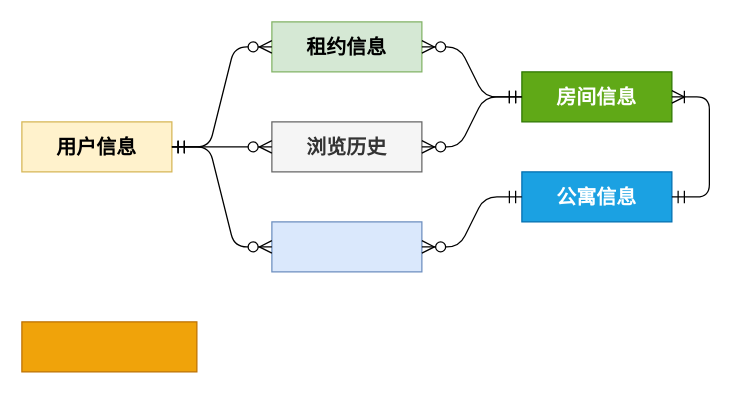
Some shapes in this 745 by 394 pixel diagram are drawn without their labels. The box of each missing label's shape, as (x1, y1, x2, y2) in pixels:
后台管理用户信息: (21, 321, 197, 372)
预约看房信息: (271, 221, 422, 272)
